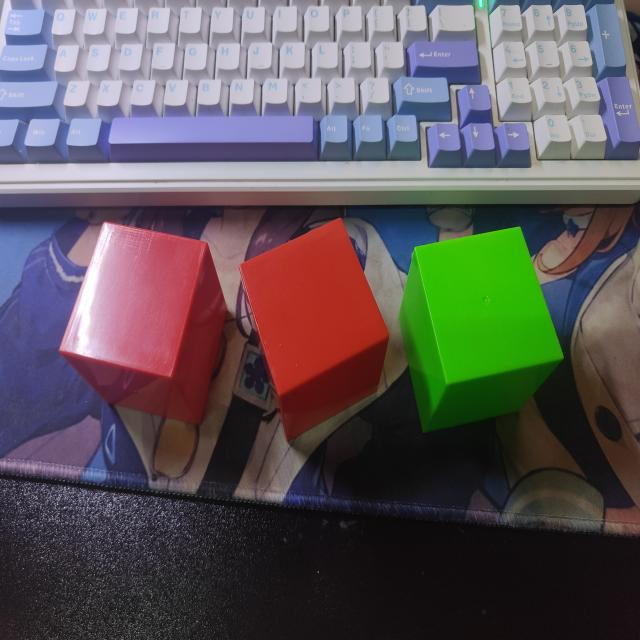green: (399, 228, 564, 436)
red: (59, 222, 229, 427), (239, 217, 391, 441)
